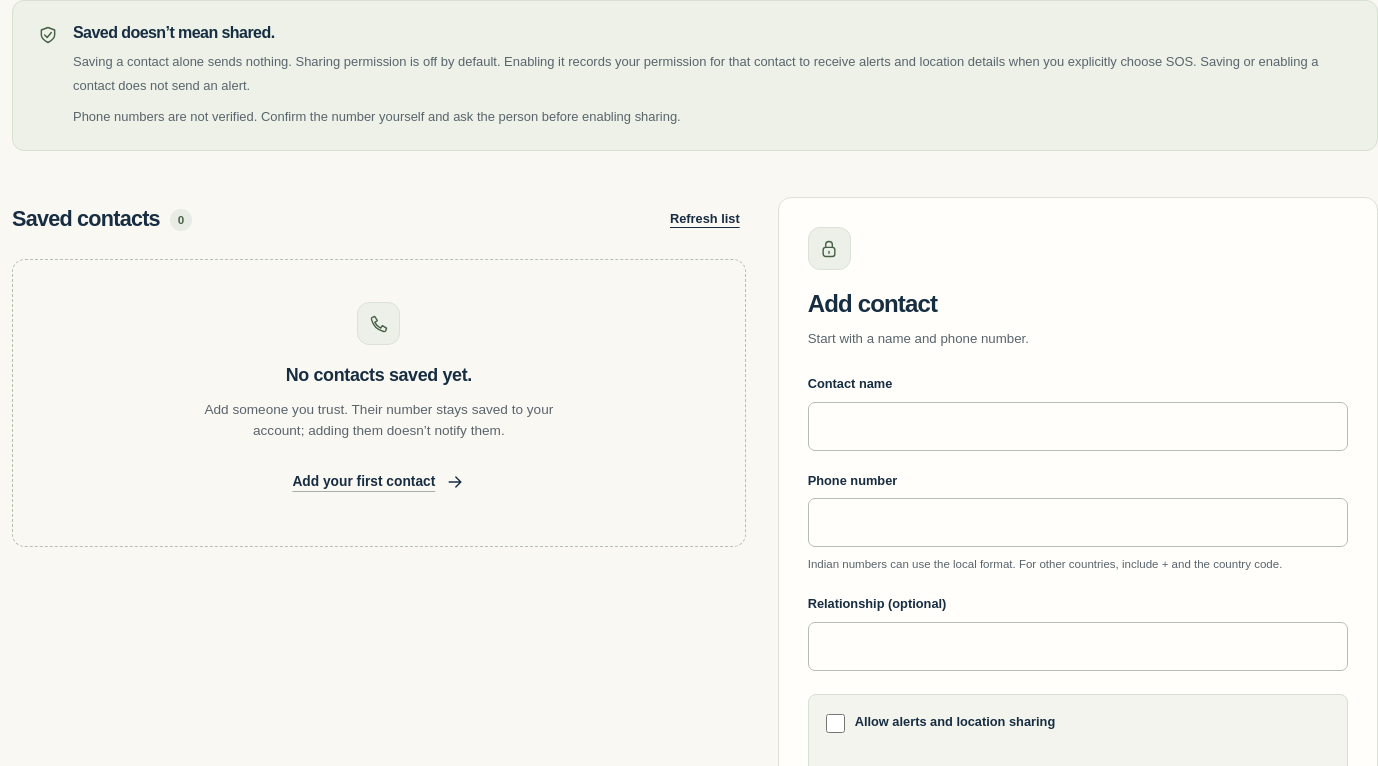
Scenario: contact creation and validation › saves a normalized phone number with sharing off by default
This screenshot has width=1378, height=766.
Step 1. Type "Asha" into the field labelled "Contact name" → (1078, 426), box [808,402,1348,451]
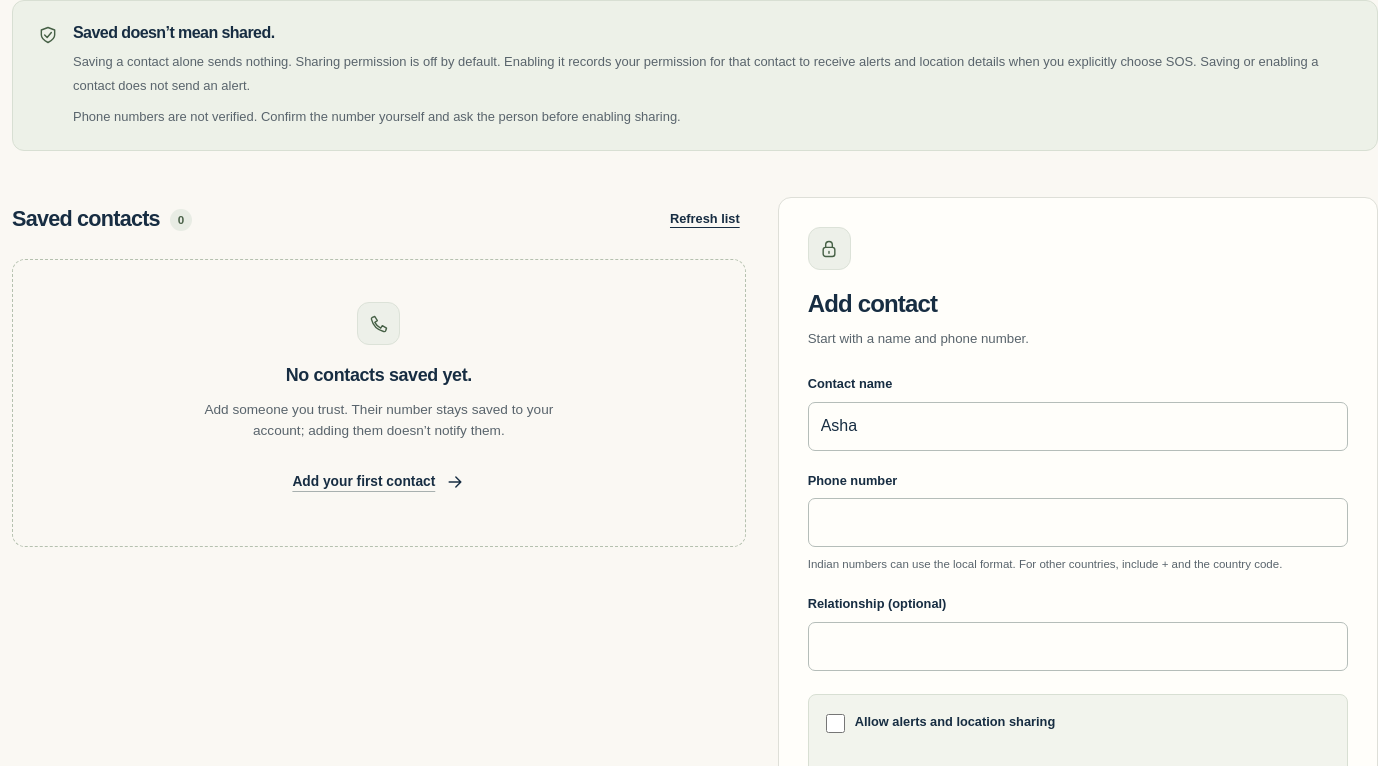
Step 2. Type "9876543210" into the field labelled "Phone number" → (1078, 523), box [808,498,1348,547]
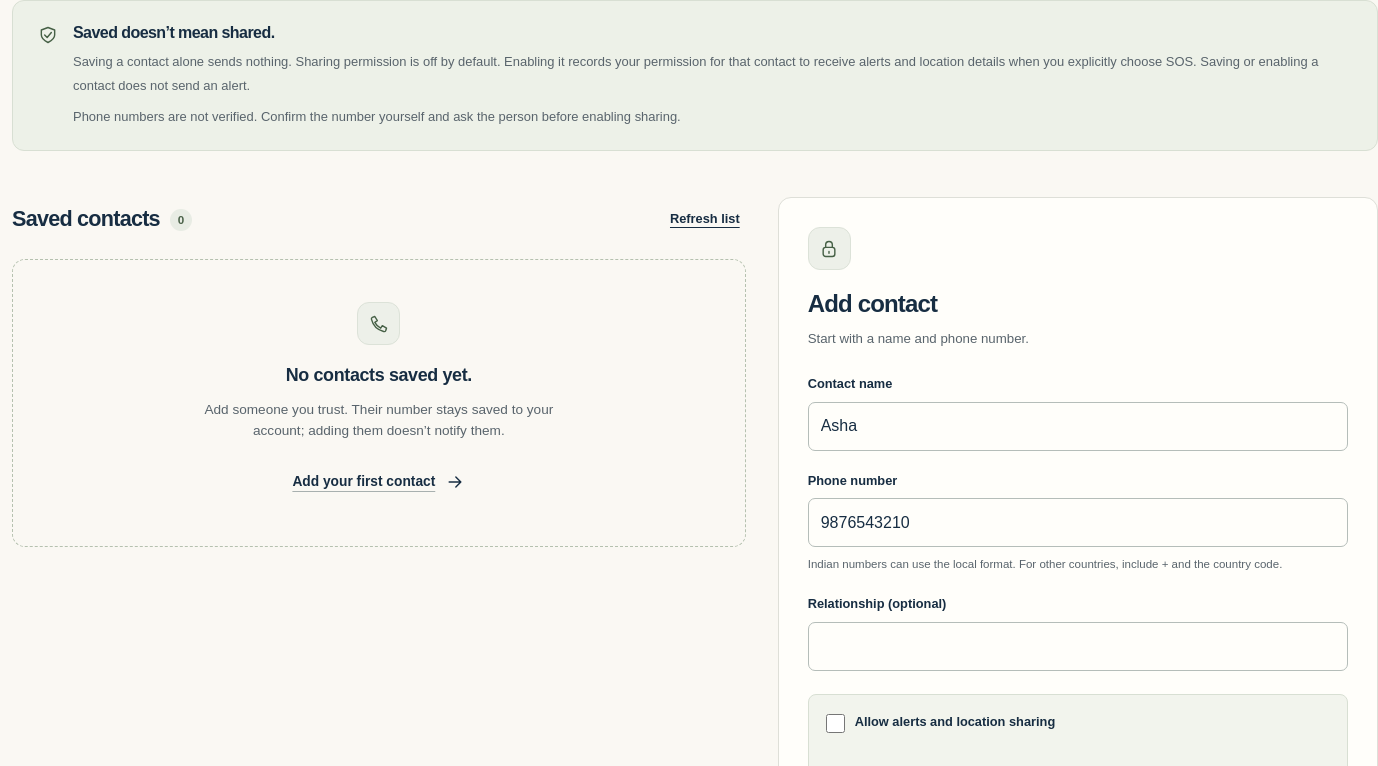
Step 3. Type "Friend" into the field labelled "Relationship (optional)" → (1078, 646), box [808,622,1348,671]
(page scrolled)
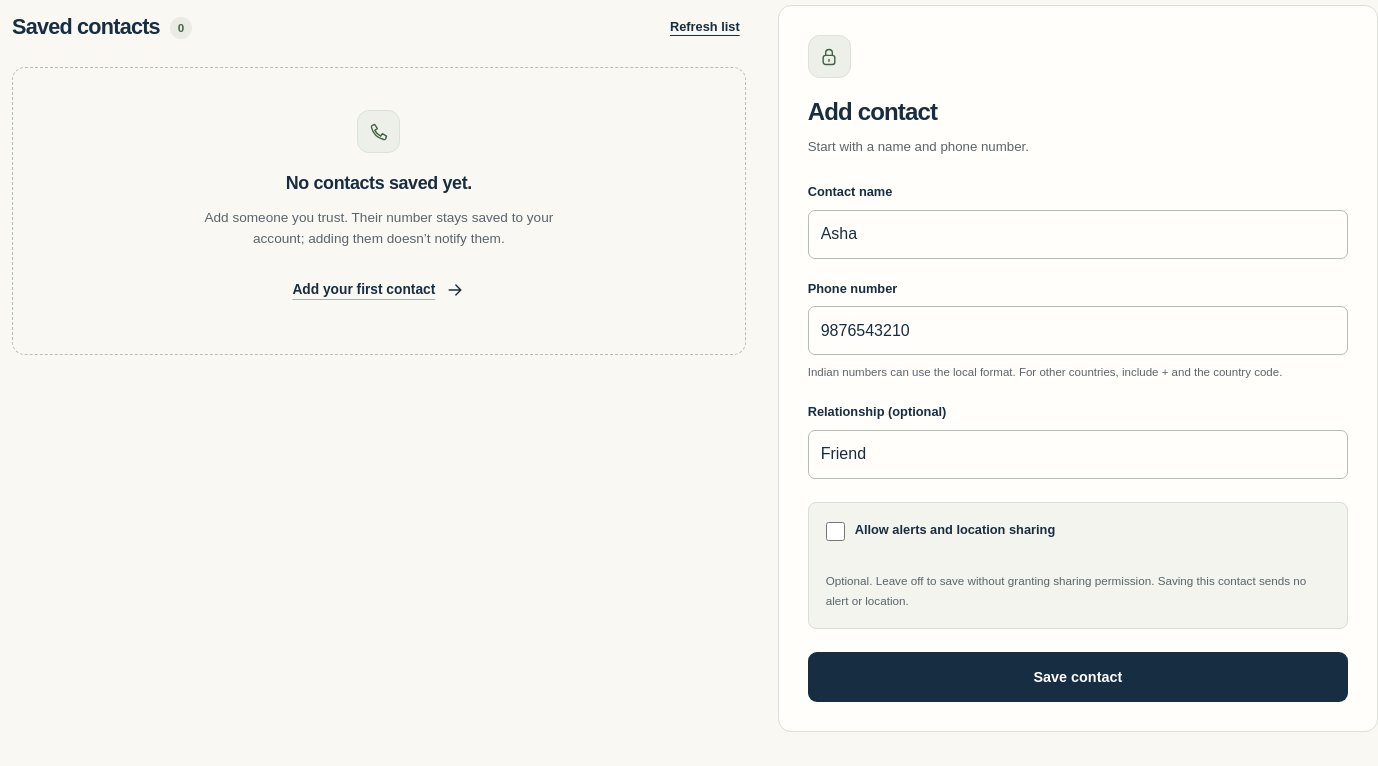
Step 4. Submit the form named "Add contact", box [808,182,1348,702]
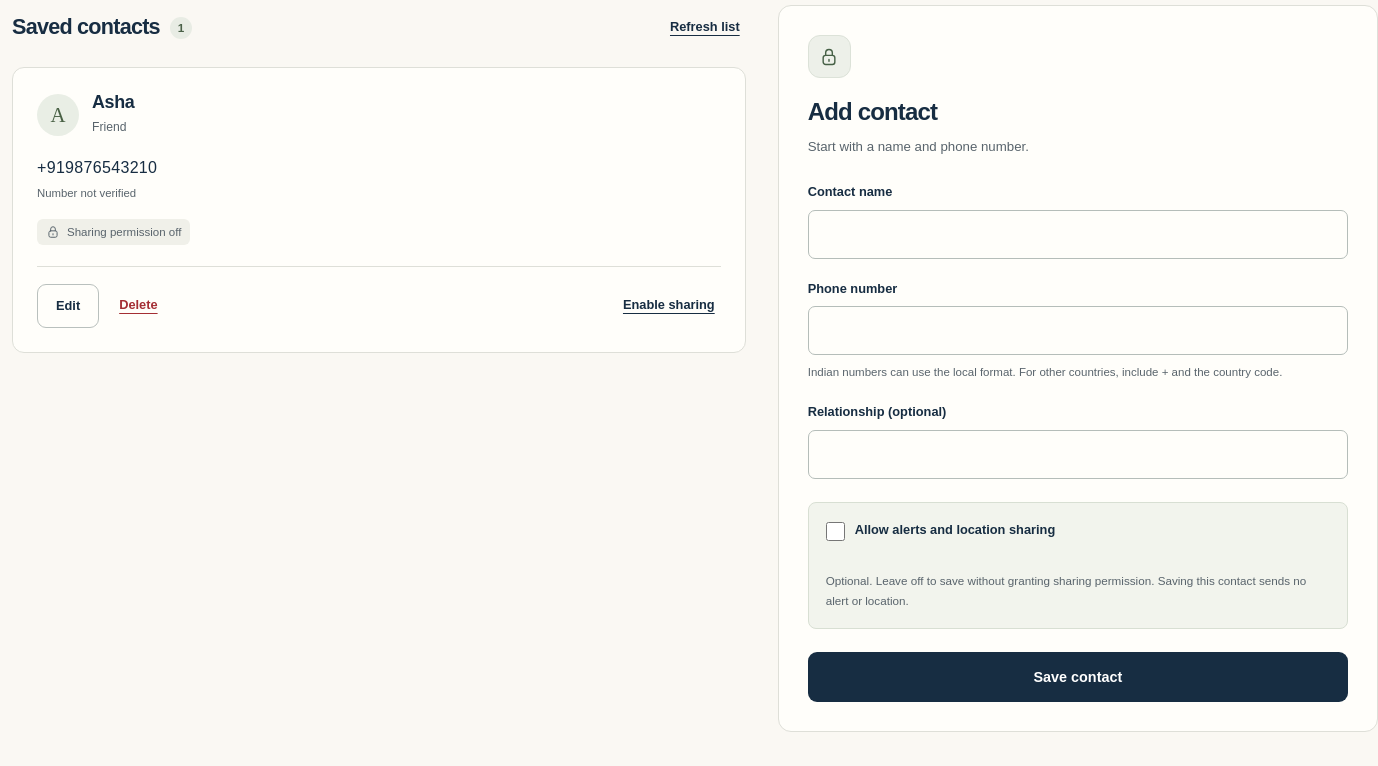
expect the element "Asha" is shown: met, box [12,67,746,353]
expect the field labelled "Contact name" is empty: met, box [808,210,1348,259]
